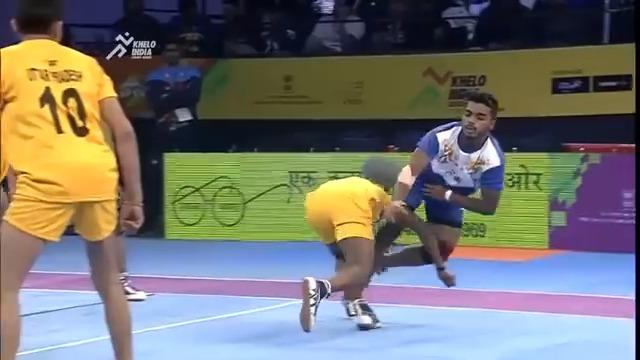Player: (0, 0, 146, 358), (298, 154, 405, 332)
Raider: (360, 90, 505, 292)
referee: (143, 39, 203, 134), (107, 0, 165, 58)
